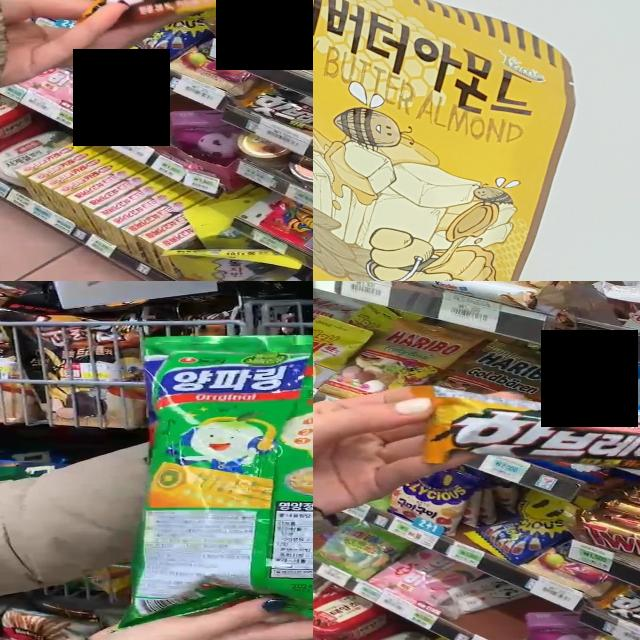honeyAmond: (313, 0, 546, 281)
hotBreak: (410, 385, 640, 498), (109, 0, 313, 24)
onionRing: (165, 339, 313, 612)
